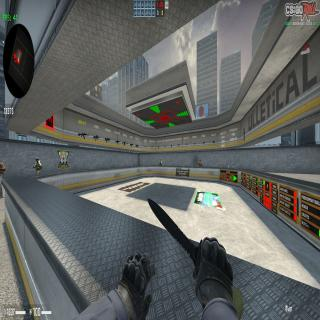CT-Body: (33, 157, 42, 176), (159, 158, 162, 166)
CT-Head: (36, 157, 39, 163), (160, 159, 161, 162)
T-Body: (0, 162, 6, 199), (198, 159, 202, 167)
T-Head: (200, 159, 200, 163)
